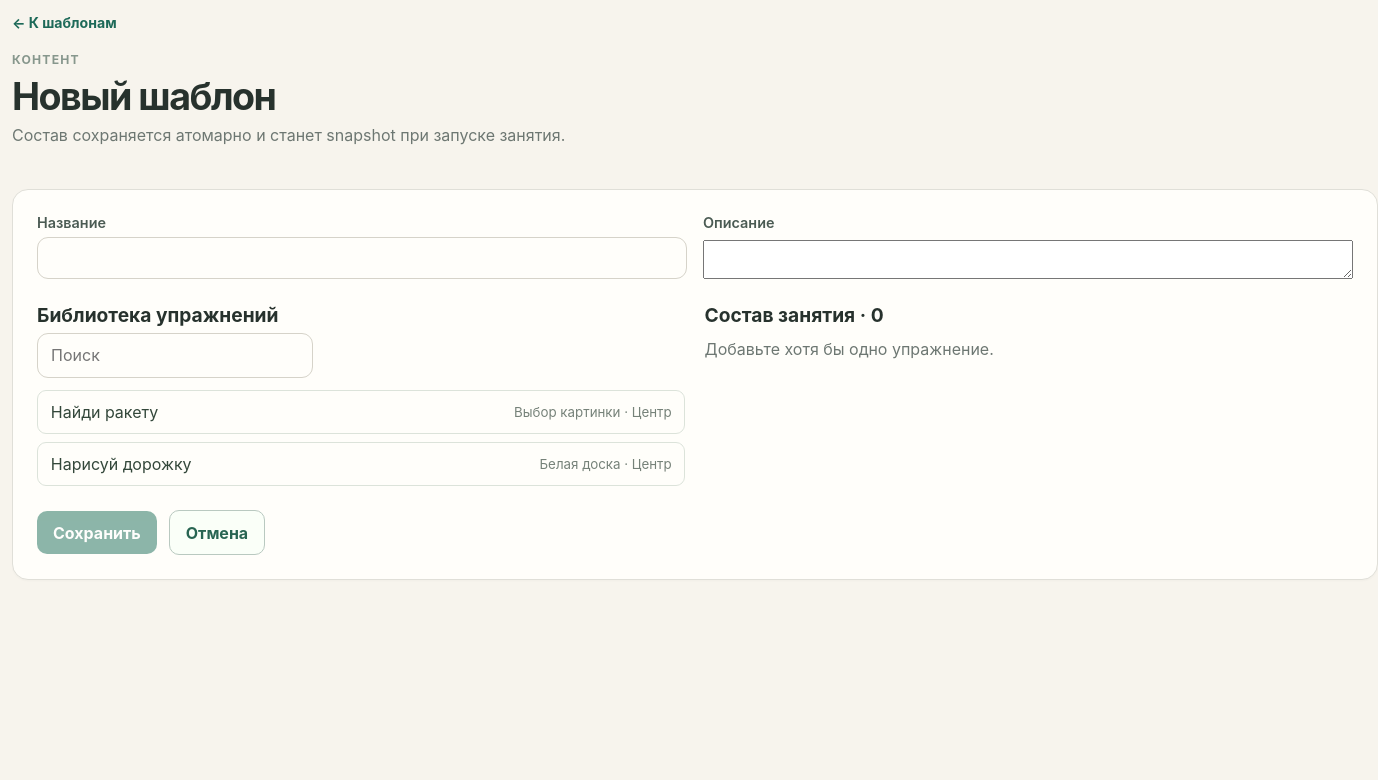
Test: WHITEBOARD content flow › shows WHITEBOARD alongside SINGLE_CHOICE in the template builder
The width and height of the screenshot is (1378, 780).
Expected: the text "Белая доска · Центр" is shown, [540, 456, 672, 472]
Click the button "Найди ракету Выбор картинки · Центр" at x=104, y=412, box [37, 390, 685, 434]
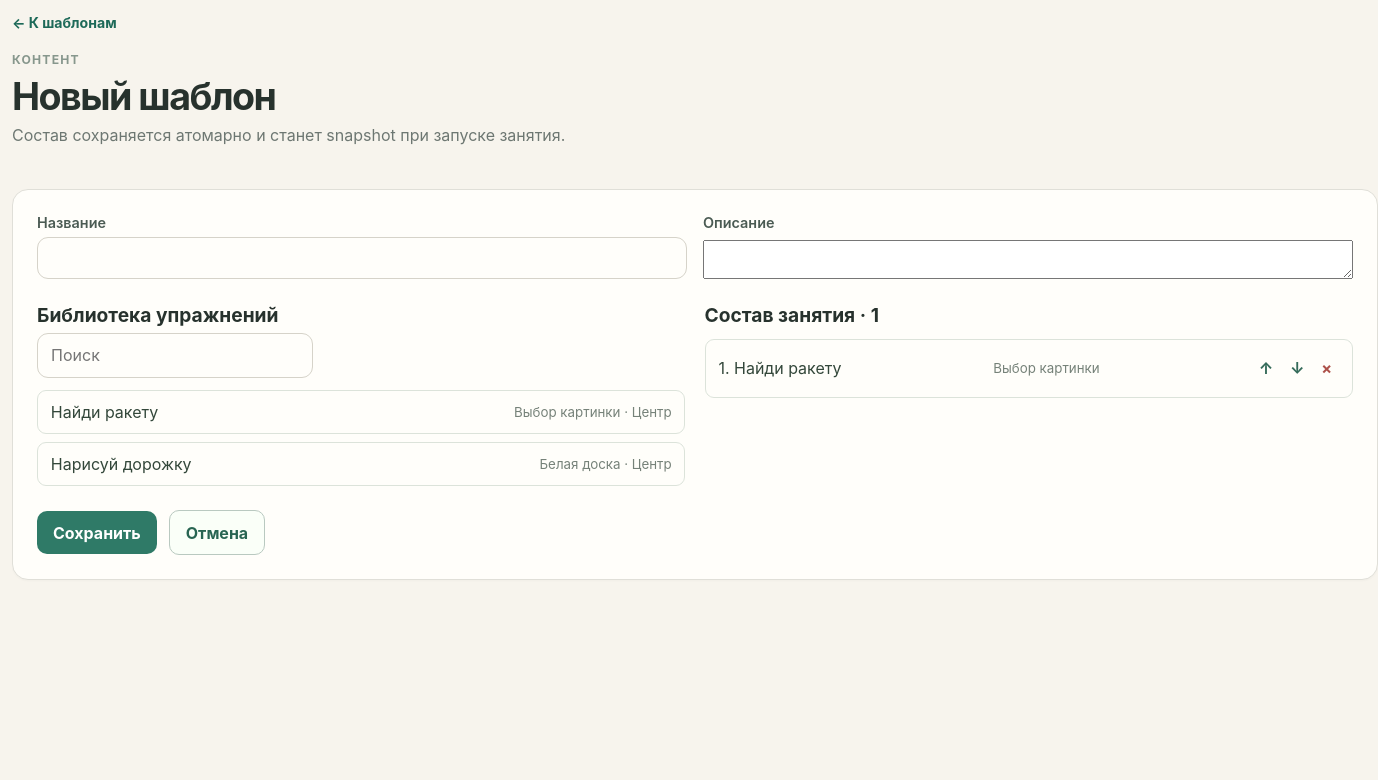
Click the button "Нарисуй дорожку Белая доска · Центр" at x=121, y=464, box [37, 442, 685, 486]
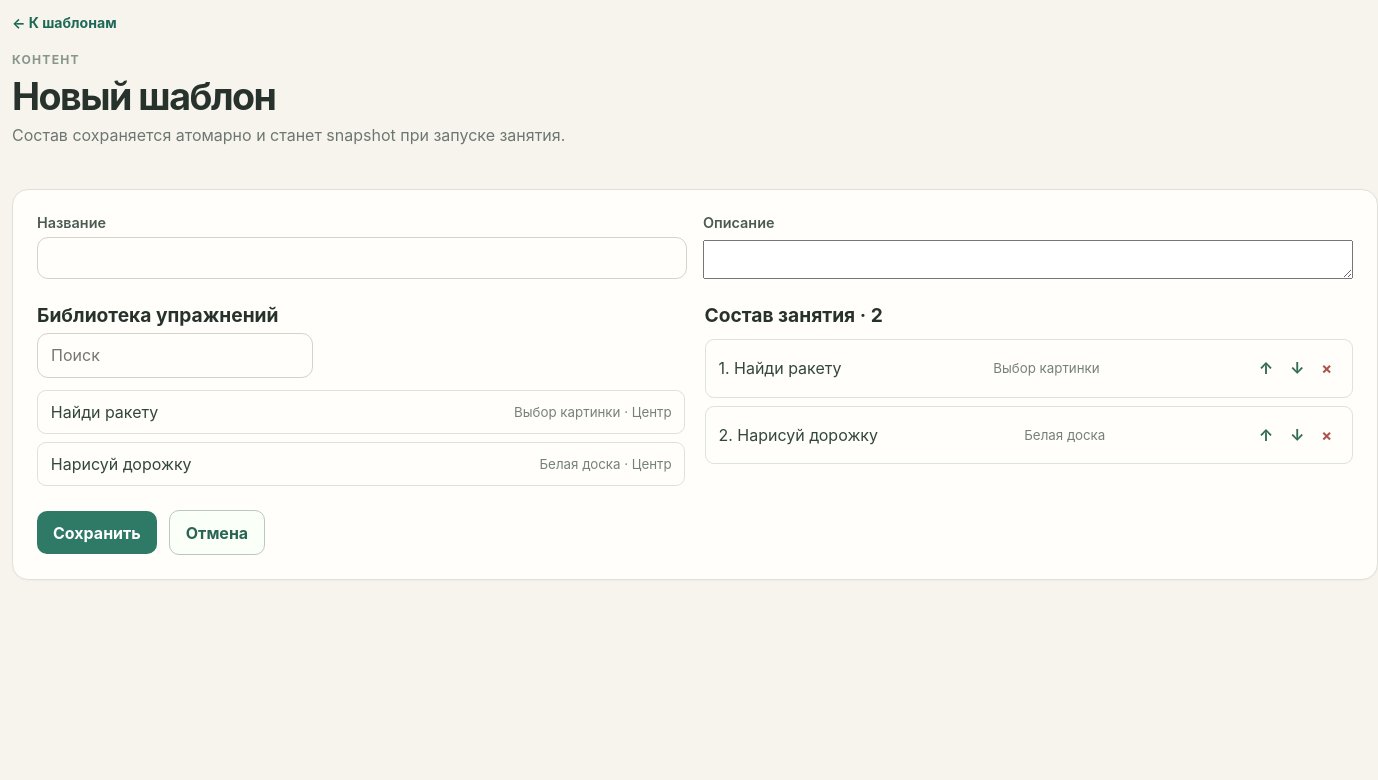
Now the text "1. Найди ракету" is shown, box [718, 358, 841, 378]
Now the text "2. Нарисуй дорожку" is shown, box [718, 425, 878, 445]
